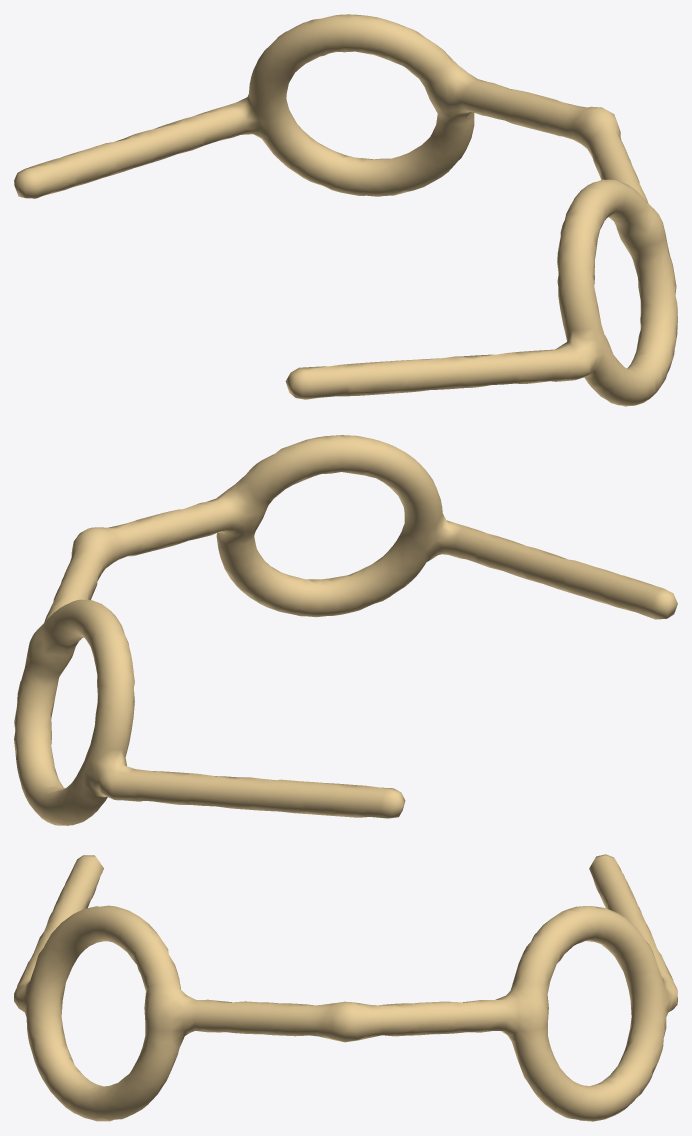
File: acc_glasses.glb
3 views of the same model, one above another, from view 1: azimuth 30°, elevation 25°; view 2: azimuth 150°, elevation 25°; view 3: azimuth 270°, elevation 25° (orthographic). The views are drawn at different scales.
Visible parts, largest first — view 1: body; view 2: body; view 3: body.
Boxes of the visible parts, <box> form: body: <box>14,14,677,406</box>; body: <box>14,435,677,825</box>; body: <box>14,854,677,1121</box>.
Bounding box in the file's own units: 0.5917 × 0.2434 × 0.7728.
